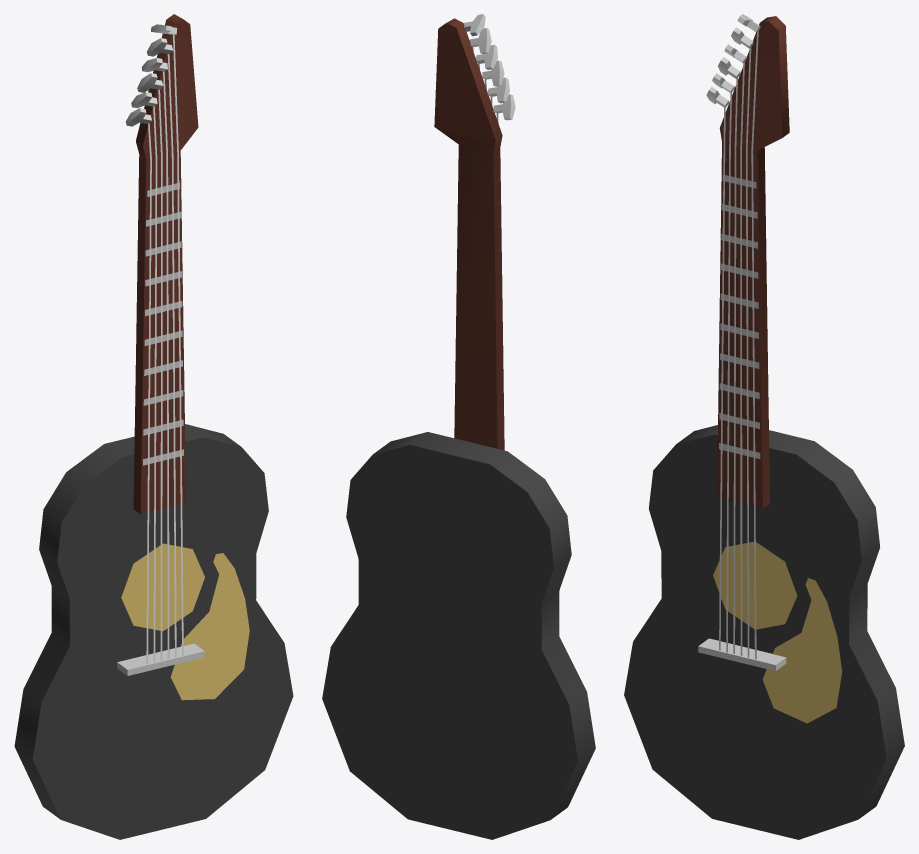
The picture shows the model from 3 angles, left to right: view 1: azimuth 30°, elevation 25°; view 2: azimuth 150°, elevation 25°; view 3: azimuth 330°, elevation 25°; orthographic projection. The views are drawn at different scales.
Parts seen in each view (by area): view 1: musical_instrument_017; view 2: musical_instrument_017; view 3: musical_instrument_017.
Boxes of the visible parts, x1,y1,x2,y2 form: musical_instrument_017: (14,14,293,839); musical_instrument_017: (322,14,595,839); musical_instrument_017: (624,14,904,839).
Bounding box in the file's own units: 0.394 × 1.17 × 0.0801.
